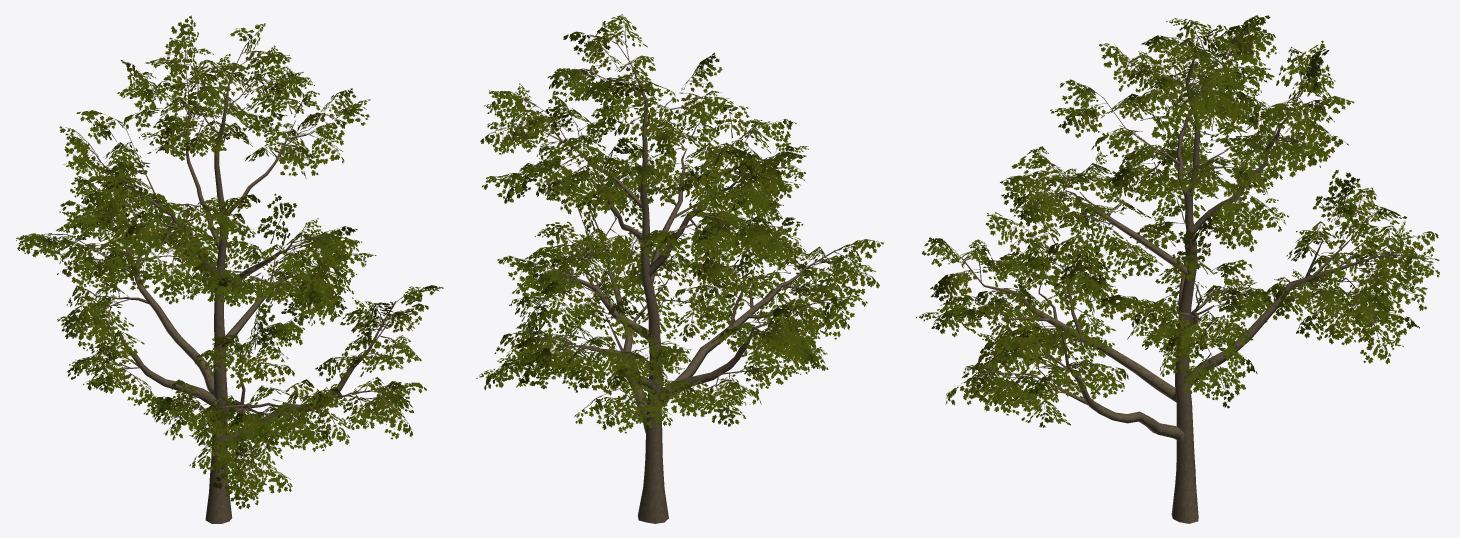
The model's file is maple_large_3_lod1.gltf.
The picture shows the model from 3 angles, left to right: view 1: azimuth 30°, elevation 25°; view 2: azimuth 150°, elevation 25°; view 3: azimuth 270°, elevation 25°; orthographic projection. The views are drawn at different scales.
Parts seen in each view (by area): view 1: maple_tree; view 2: maple_tree; view 3: maple_tree.
Boxes of the visible parts, x1,y1,x2,y2 form: maple_tree: (16,15,443,523); maple_tree: (476,14,883,523); maple_tree: (916,15,1439,523).
Size of the model in its own units: 12.61 by 18.33 by 17.33.
